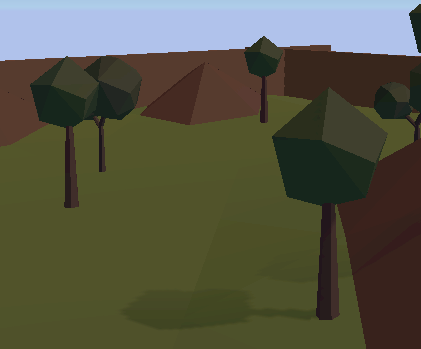tree: (271, 87, 389, 318), (31, 55, 99, 209), (85, 56, 143, 172), (374, 57, 421, 143), (245, 34, 289, 122)
